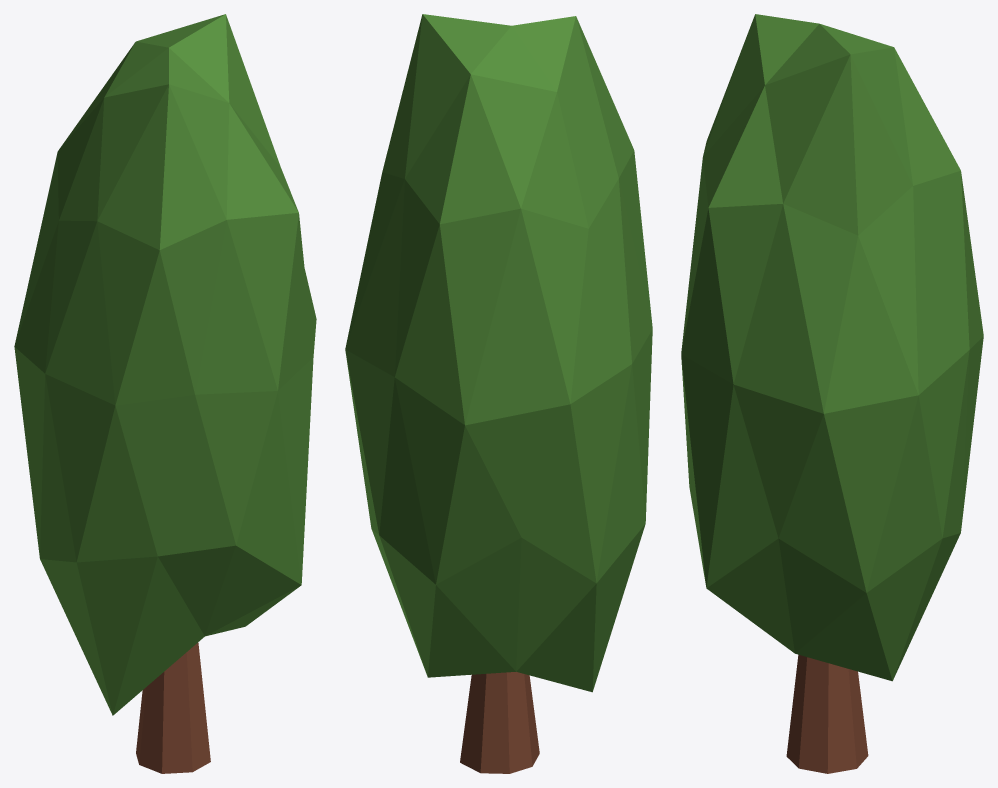
File: Tree_05_summer_vc.fbx
The picture shows the model from 3 angles, left to right: view 1: azimuth 30°, elevation 25°; view 2: azimuth 150°, elevation 25°; view 3: azimuth 270°, elevation 25°; orthographic projection. The views are drawn at different scales.
Visible parts, largest first — view 1: Tree_05_summer_vc; view 2: Tree_05_summer_vc; view 3: Tree_05_summer_vc.
Boxes of the visible parts, x1,y1,x2,y2 form: Tree_05_summer_vc: (14, 14, 316, 773); Tree_05_summer_vc: (345, 14, 652, 773); Tree_05_summer_vc: (681, 14, 983, 773).
Size of the model in its own units: 272 by 691 by 258.
